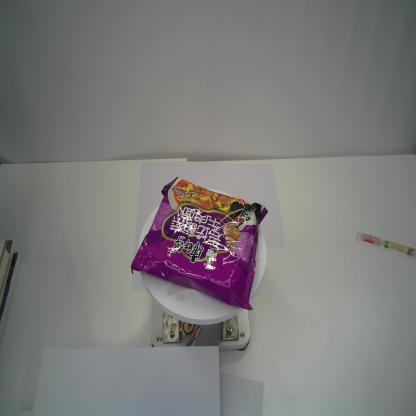Instant Noodles: (130, 176, 269, 311)
